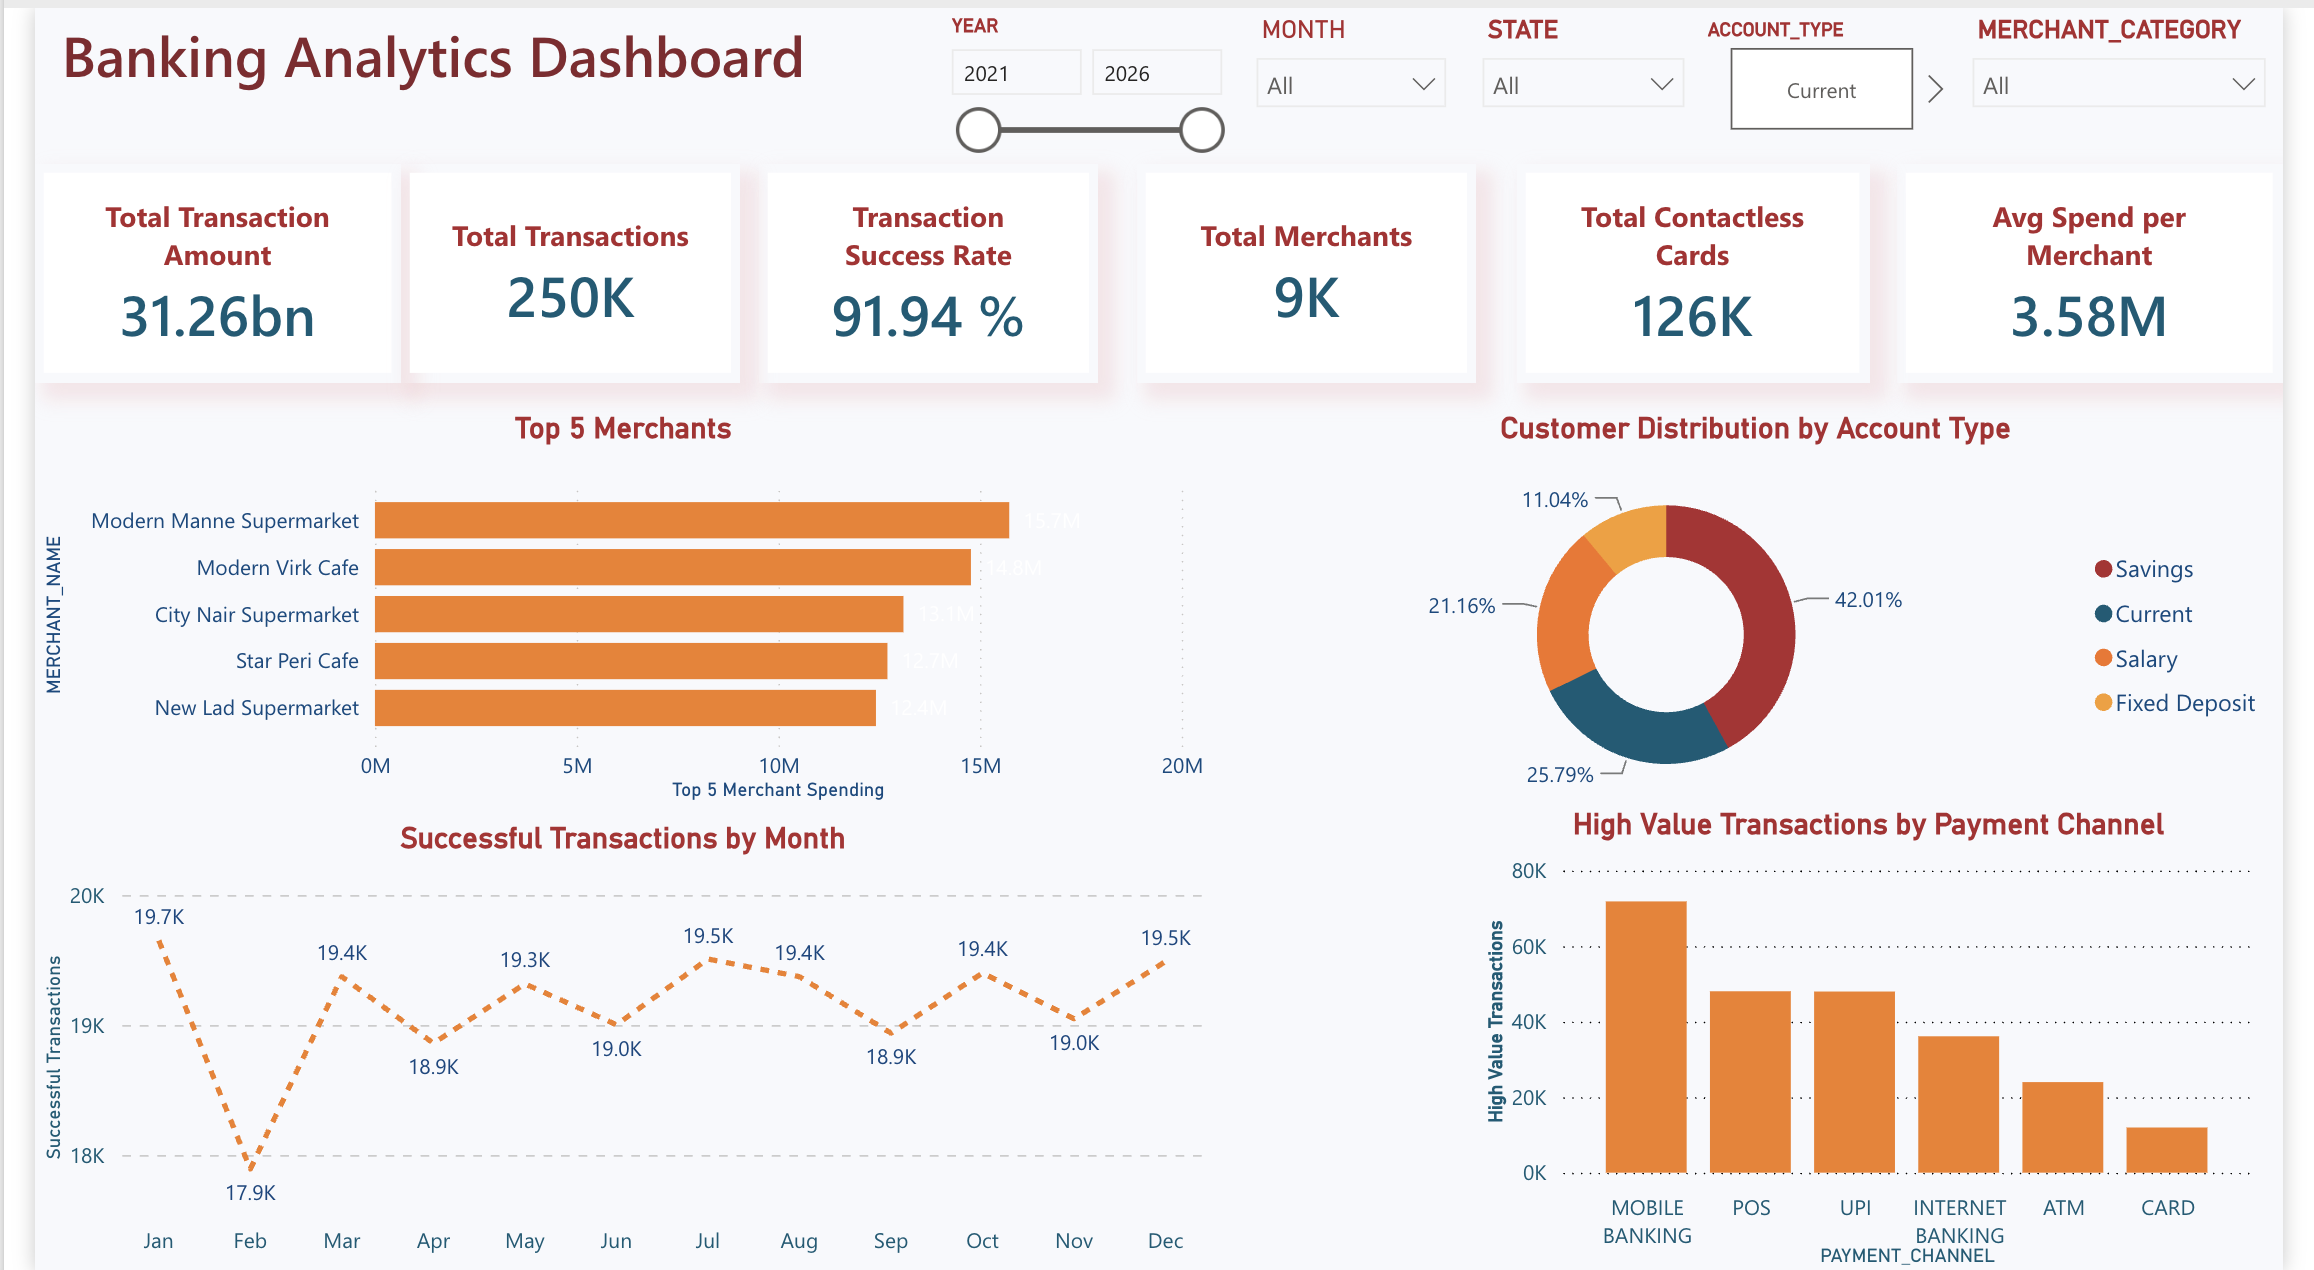

What the dashboard file says about the page in this screenshot:
{"tool":"powerbi","page":{"name":"Page 1","canvas":[1280,720],"ordinal":0},"visuals":[{"type":"textbox","box":[10.3,0,499,76.3],"z":0},{"type":"slicer","fields":{"Values":["DIM_DATE.YEAR"]},"box":[509.4,0,176.8,88.4],"z":1000},{"type":"slicer","fields":{"Values":["DIM_DATE.MONTH_NAME"]},"box":[686.2,0,128.1,88.4],"z":2000},{"type":"slicer","fields":{"Values":["DIM_CUSTOMERS.STATE"]},"box":[814.3,0,135.1,71.5],"z":3000},{"type":"slicer","fields":{"Values":["DIM_ACCOUNTS.ACCOUNT_TYPE"]},"box":[939.9,2.3,153.8,74.1],"z":4000},{"type":"slicer","fields":{"Values":["DIM_MERCHANTS.MERCHANT_CATEGORY"]},"box":[1093.7,0,187.2,76.2],"z":5000},{"type":"cardVisual","title":"Total Transaction Amount","fields":{"Data":["FCT_TRANSACTIONS.Total Transaction Amount"]},"box":[0,89,208.5,124.6],"z":6000},{"type":"cardVisual","title":"Total Transaction Amount","fields":{"Data":["FCT_TRANSACTIONS.Total Transactions"]},"box":[208.5,89,193.2,124.6],"z":7000},{"type":"cardVisual","title":"Total Transaction Amount","fields":{"Data":["FCT_TRANSACTIONS.Total Merchants"]},"box":[627.9,89,193.2,124.6],"z":8000},{"type":"cardVisual","title":"Total Transaction Amount","fields":{"Data":["FCT_TRANSACTIONS.Contactless Cards"]},"box":[844,89,200.8,124.6],"z":9000},{"type":"cardVisual","title":"Total Transaction Amount","fields":{"Data":["FCT_TRANSACTIONS.Transaction Success Rate"]},"box":[411.8,89,193.2,124.6],"z":10000},{"type":"cardVisual","title":"Total Transaction Amount","fields":{"Data":["FCT_TRANSACTIONS.Average Spend per Merchant"]},"box":[1060.1,89,219.9,124.6],"z":11000},{"type":"donutChart","title":"Customer Distribution by Account Type","fields":{"Category":["DIM_ACCOUNTS.ACCOUNT_TYPE"],"Y":["FCT_TRANSACTIONS.Total Customers"]},"box":[681.3,231.3,597.8,224.9],"z":12000},{"type":"clusteredColumnChart","title":"High Value Transactions by Payment Channel","fields":{"Category":["FCT_TRANSACTIONS.PAYMENT_CHANNEL"],"Y":["FCT_TRANSACTIONS.High Value Transactions"]},"box":[821.5,456.5,446.2,264.2],"z":13000},{"type":"barChart","title":"Top 5 Merchants","fields":{"Category":["DIM_MERCHANTS.MERCHANT_NAME"],"Y":["FCT_TRANSACTIONS.Top 5 Merchant Spending"]},"box":[0,231.3,670.2,224.9],"z":14000},{"type":"textbox","box":[876.4,213.9,369.6,35.1],"z":15000},{"type":"lineChart","title":"Successful Transactions by Month","fields":{"Category":["DIM_DATE.MONTH_NAME"],"Y":["FCT_TRANSACTIONS.Successful Transactions"]},"box":[0,465.2,669.9,255.5],"z":16001}]}

Visuals, with their boxes in screenshot pixels (x1, y1, x2, y2), scaled from the page's 1280x720 canvas onto the 2314x1270 screenshot:
textbox: [19,0,921,135]
slicer - DIM_DATE.YEAR: [921,0,1241,156]
slicer - DIM_DATE.MONTH_NAME: [1241,0,1472,156]
slicer - DIM_CUSTOMERS.STATE: [1472,0,1716,126]
slicer - DIM_ACCOUNTS.ACCOUNT_TYPE: [1699,4,1977,135]
slicer - DIM_MERCHANTS.MERCHANT_CATEGORY: [1977,0,2313,134]
"Total Transaction Amount" cardVisual: [0,157,377,377]
"Total Transaction Amount" cardVisual: [377,157,726,377]
"Total Transaction Amount" cardVisual: [1135,157,1484,377]
"Total Transaction Amount" cardVisual: [1526,157,1889,377]
"Total Transaction Amount" cardVisual: [744,157,1094,377]
"Total Transaction Amount" cardVisual: [1916,157,2313,377]
"Customer Distribution by Account Type" donutChart: [1232,408,2312,805]
"High Value Transactions by Payment Channel" clusteredColumnChart: [1485,805,2292,1269]
"Top 5 Merchants" barChart: [0,408,1212,805]
textbox: [1584,377,2253,439]
"Successful Transactions by Month" lineChart: [0,821,1211,1269]
